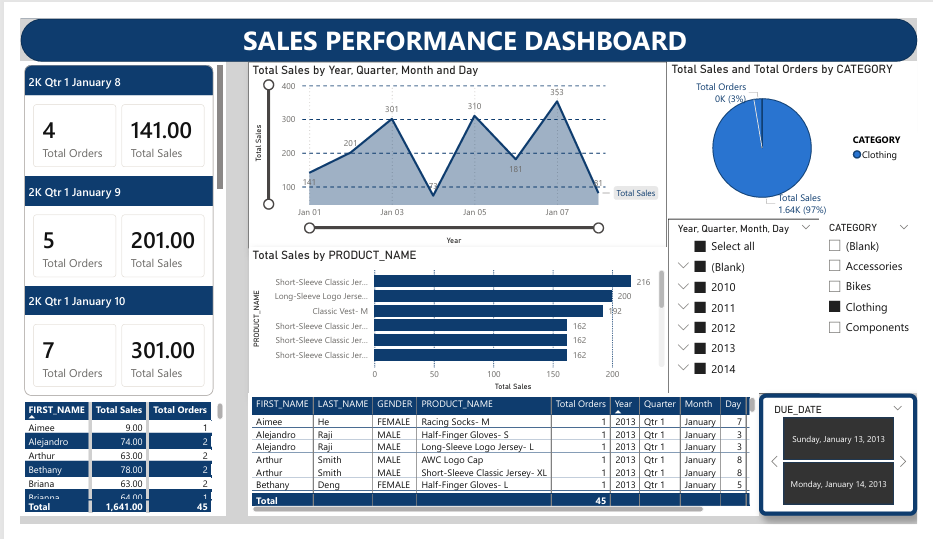

This screenshot's page, from the dashboard's own definition file:
{"tool":"powerbi","page":{"name":"Page 1","canvas":[1280,720],"ordinal":0},"visuals":[{"type":"cardVisual","fields":{"Rows":["fact_sales.SHIPPING_DATE.Variation.Date Hierarchy.Year","fact_sales.SHIPPING_DATE.Variation.Date Hierarchy.Quarter","fact_sales.SHIPPING_DATE.Variation.Date Hierarchy.Month","fact_sales.SHIPPING_DATE.Variation.Date Hierarchy.Day"],"Data":["fact_sales.Total Orders","fact_sales.Total Sales"]},"box":[0,61.1,293.7,481.1],"z":0},{"type":"lineChart","fields":{"Y":["fact_sales.Total Sales"],"Category":["fact_sales.ORDER_DATE.Variation.Date Hierarchy.Year","fact_sales.ORDER_DATE.Variation.Date Hierarchy.Quarter","fact_sales.ORDER_DATE.Variation.Date Hierarchy.Month","fact_sales.ORDER_DATE.Variation.Date Hierarchy.Day"]},"box":[325.3,61.1,597.9,266],"z":1000},{"type":"clusteredBarChart","fields":{"Category":["dim_products.PRODUCT_NAME"],"Y":["fact_sales.Total Sales"]},"box":[326.3,326.3,597.9,207.4],"z":2000},{"type":"pieChart","fields":{"Category":["dim_products.CATEGORY"],"Y":["fact_sales.Total Sales","fact_sales.Total Orders"]},"box":[924.2,61.1,355.8,227.4],"z":3000},{"type":"slicer","fields":{"Values":["fact_sales.ORDER_DATE.Variation.Date Hierarchy.Year","fact_sales.ORDER_DATE.Variation.Date Hierarchy.Quarter","fact_sales.ORDER_DATE.Variation.Date Hierarchy.Month","fact_sales.ORDER_DATE.Variation.Date Hierarchy.Day"]},"box":[924.2,285.3,216.8,248.4],"z":4000},{"type":"slicer","fields":{"Values":["dim_products.CATEGORY"]},"box":[1141.1,285.3,138.9,248.4],"z":5000},{"type":"tableEx","fields":{"Values":["dim_customers.FIRST_NAME","fact_sales.Total Sales","fact_sales.Total Orders"]},"box":[0,542.1,293.7,166.3],"z":6000},{"type":"tableEx","fields":{"Values":["dim_customers.FIRST_NAME","dim_customers.LAST_NAME","dim_customers.GENDER","dim_products.PRODUCT_NAME","fact_sales.Total Orders","fact_sales.ORDER_DATE.Variation.Date Hierarchy.Year","fact_sales.ORDER_DATE.Variation.Date Hierarchy.Quarter","fact_sales.ORDER_DATE.Variation.Date Hierarchy.Month","fact_sales.ORDER_DATE.Variation.Date Hierarchy.Day","fact_sales.Total Sales"]},"box":[325.3,533.7,728.4,174.7],"z":7000},{"type":"slicer","fields":{"Values":["fact_sales.DUE_DATE"]},"box":[1053.7,533.7,226.3,174.7],"z":8000},{"type":"shape","box":[0,0,1280,61.1],"z":8001},{"type":"textbox","box":[311.6,0,957.9,61.1],"z":8003}]}

Visuals, with their boxes in screenshot pixels (x1, y1, x2, y2), scaled from the page's 1280x720 canvas onto the 933x539 screenshot:
cardVisual - fact_sales.SHIPPING_DATE.Variation.Date Hierarchy.Year x fact_sales.SHIPPING_DATE.Variation.Date Hierarchy.Quarter: <bbox>0, 46, 214, 406</bbox>
lineChart - fact_sales.Total Sales x fact_sales.ORDER_DATE.Variation.Date Hierarchy.Year: <bbox>237, 46, 673, 245</bbox>
clusteredBarChart - dim_products.PRODUCT_NAME x fact_sales.Total Sales: <bbox>238, 244, 674, 400</bbox>
pieChart - dim_products.CATEGORY x fact_sales.Total Sales: <bbox>674, 46, 932, 216</bbox>
slicer - fact_sales.ORDER_DATE.Variation.Date Hierarchy.Year x fact_sales.ORDER_DATE.Variation.Date Hierarchy.Quarter: <bbox>674, 214, 832, 400</bbox>
slicer - dim_products.CATEGORY: <bbox>832, 214, 932, 400</bbox>
tableEx - dim_customers.FIRST_NAME x fact_sales.Total Sales: <bbox>0, 406, 214, 530</bbox>
tableEx - dim_customers.FIRST_NAME x dim_customers.LAST_NAME: <bbox>237, 400, 768, 530</bbox>
slicer - fact_sales.DUE_DATE: <bbox>768, 400, 932, 530</bbox>
shape: <bbox>0, 0, 932, 46</bbox>
textbox: <bbox>227, 0, 925, 46</bbox>
